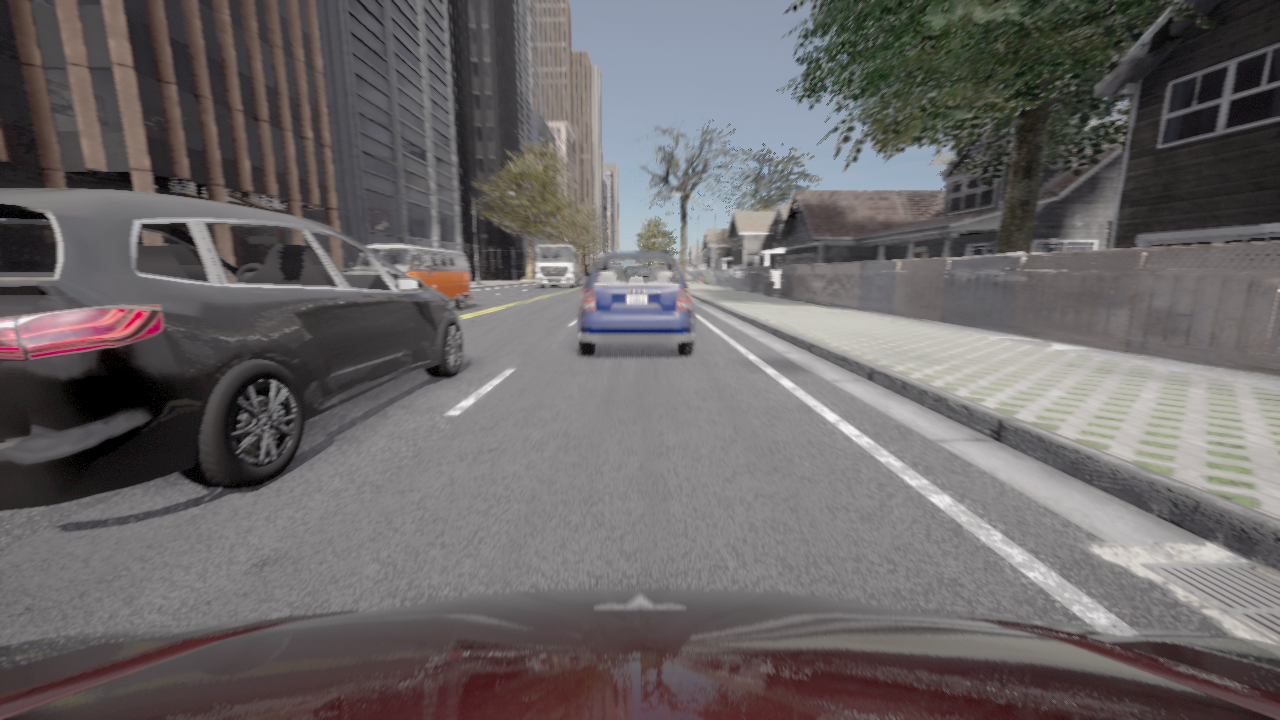cyclist: (0, 588, 1279, 719), (577, 251, 695, 355), (365, 243, 471, 309), (533, 244, 582, 287)
